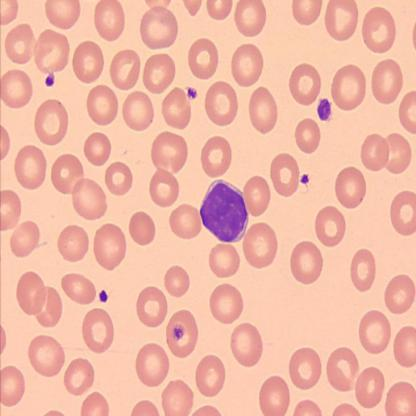Lymphocyte: (200, 178, 250, 244)
